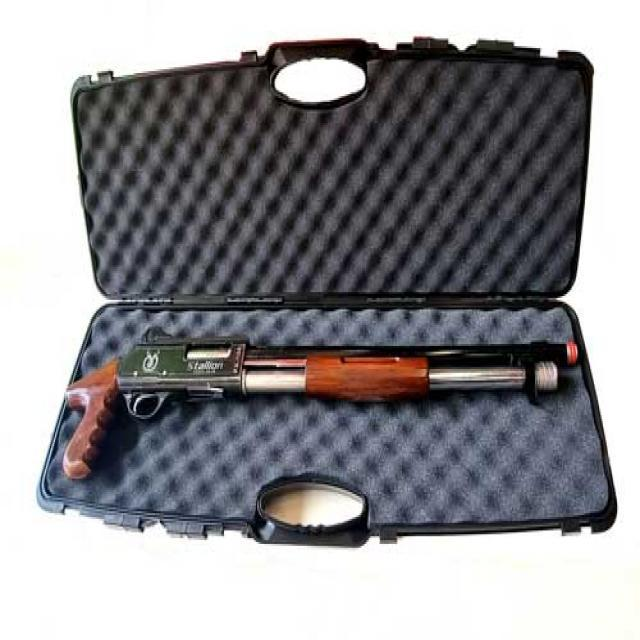shotgun: (68, 334, 596, 474)
